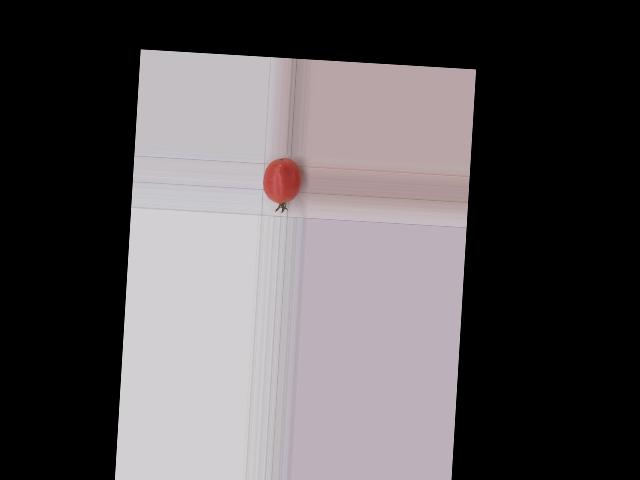tomato: (261, 156, 302, 204)
